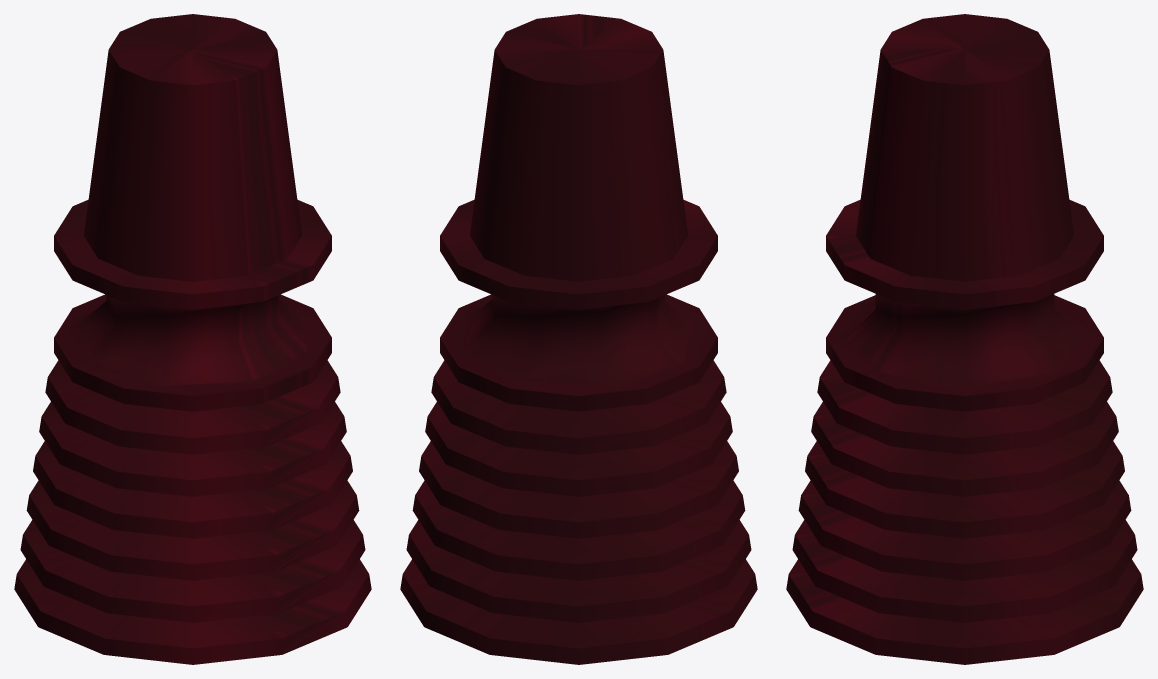
File: PegPlasticT10.fbx
3 renders of one model, left to right at view 1: azimuth 30°, elevation 25°; view 2: azimuth 150°, elevation 25°; view 3: azimuth 270°, elevation 25°, orthographic.
Visible parts, largest first — view 1: PegPlasticT10; view 2: PegPlasticT10; view 3: PegPlasticT10.
Part boxes in pixels (x1,y1,x2,y2): PegPlasticT10: (14, 14, 371, 664); PegPlasticT10: (400, 14, 757, 664); PegPlasticT10: (786, 14, 1143, 664).
Size of the model in its own units: 1.85 by 3.08 by 1.85.
Materials: 1 (1 with a texture image).
